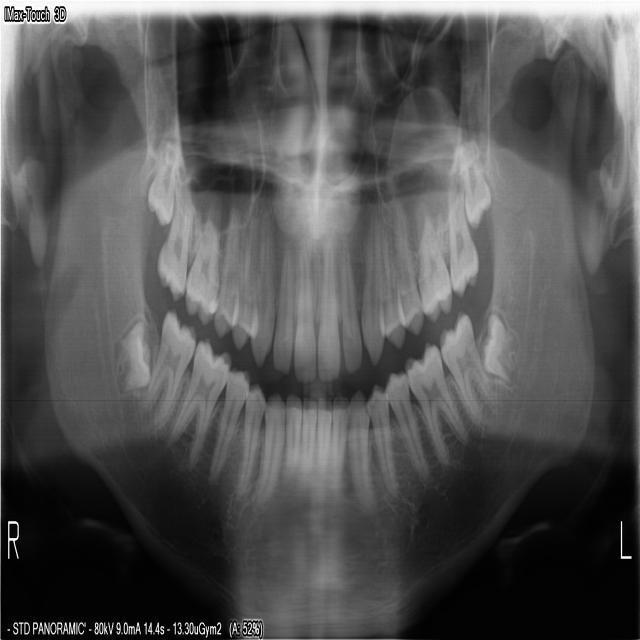LCD: (347, 384, 378, 520)
LCU: (359, 196, 384, 369)
LID: (330, 393, 349, 510), (316, 393, 330, 502)
LIU: (315, 221, 340, 385), (338, 213, 362, 378)
LMD: (403, 338, 470, 472), (437, 306, 500, 431), (480, 307, 520, 386)
LMU: (416, 209, 453, 327), (444, 178, 479, 300), (461, 131, 495, 230)
LPMD: (384, 367, 431, 487), (368, 379, 403, 499)
LPMU: (390, 186, 424, 339), (378, 193, 405, 350)
RCD: (246, 387, 283, 514)
RCU: (247, 195, 274, 371)
RID: (279, 390, 299, 489), (299, 396, 316, 491)
RIU: (292, 232, 316, 384), (270, 232, 294, 378)
RMD: (161, 333, 231, 477), (132, 305, 195, 442), (112, 315, 150, 393)
RMU: (182, 190, 222, 327), (153, 178, 195, 306), (144, 128, 179, 227)
RPMD: (204, 364, 248, 488), (231, 379, 263, 499)
RPMU: (228, 210, 256, 353), (210, 202, 238, 342)
